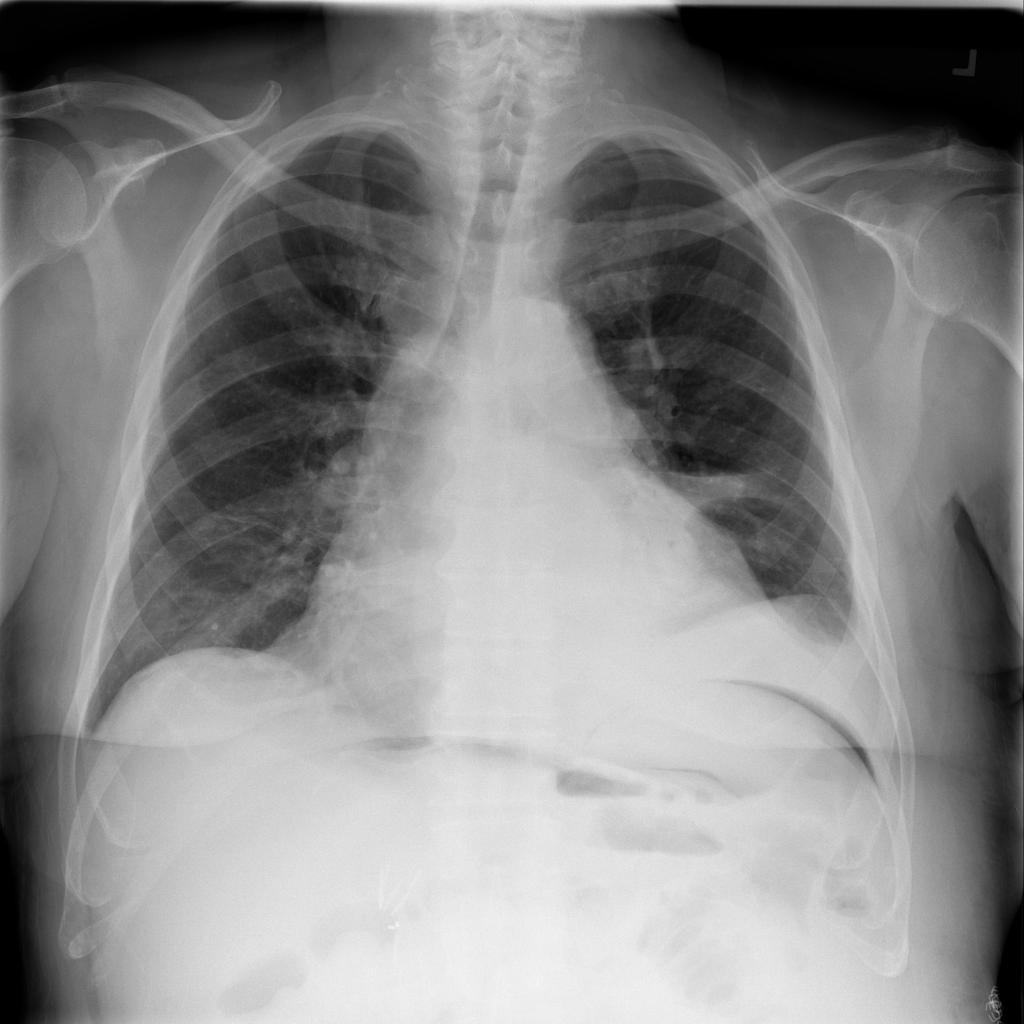Cardiomegaly: (270, 358, 804, 754)
